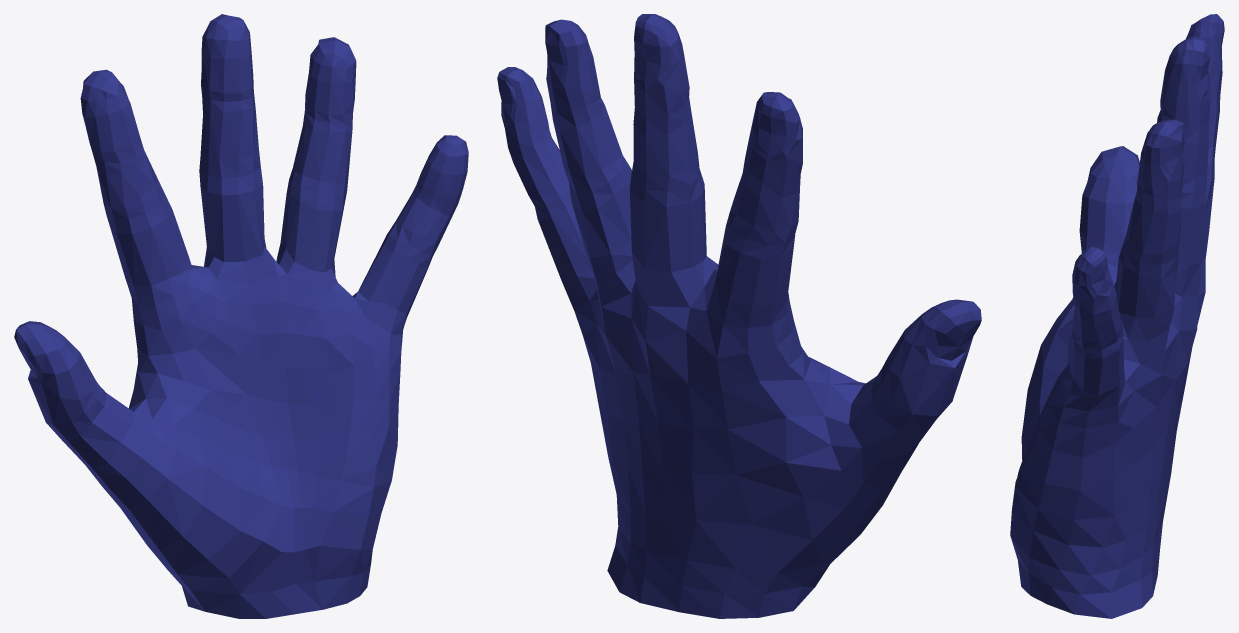
3 renders of one model, left to right at view 1: azimuth 30°, elevation 25°; view 2: azimuth 150°, elevation 25°; view 3: azimuth 270°, elevation 25°, orthographic. The views are drawn at different scales.
Bounding box in the file's own units: 0.1579 × 0.1874 × 0.0671.
